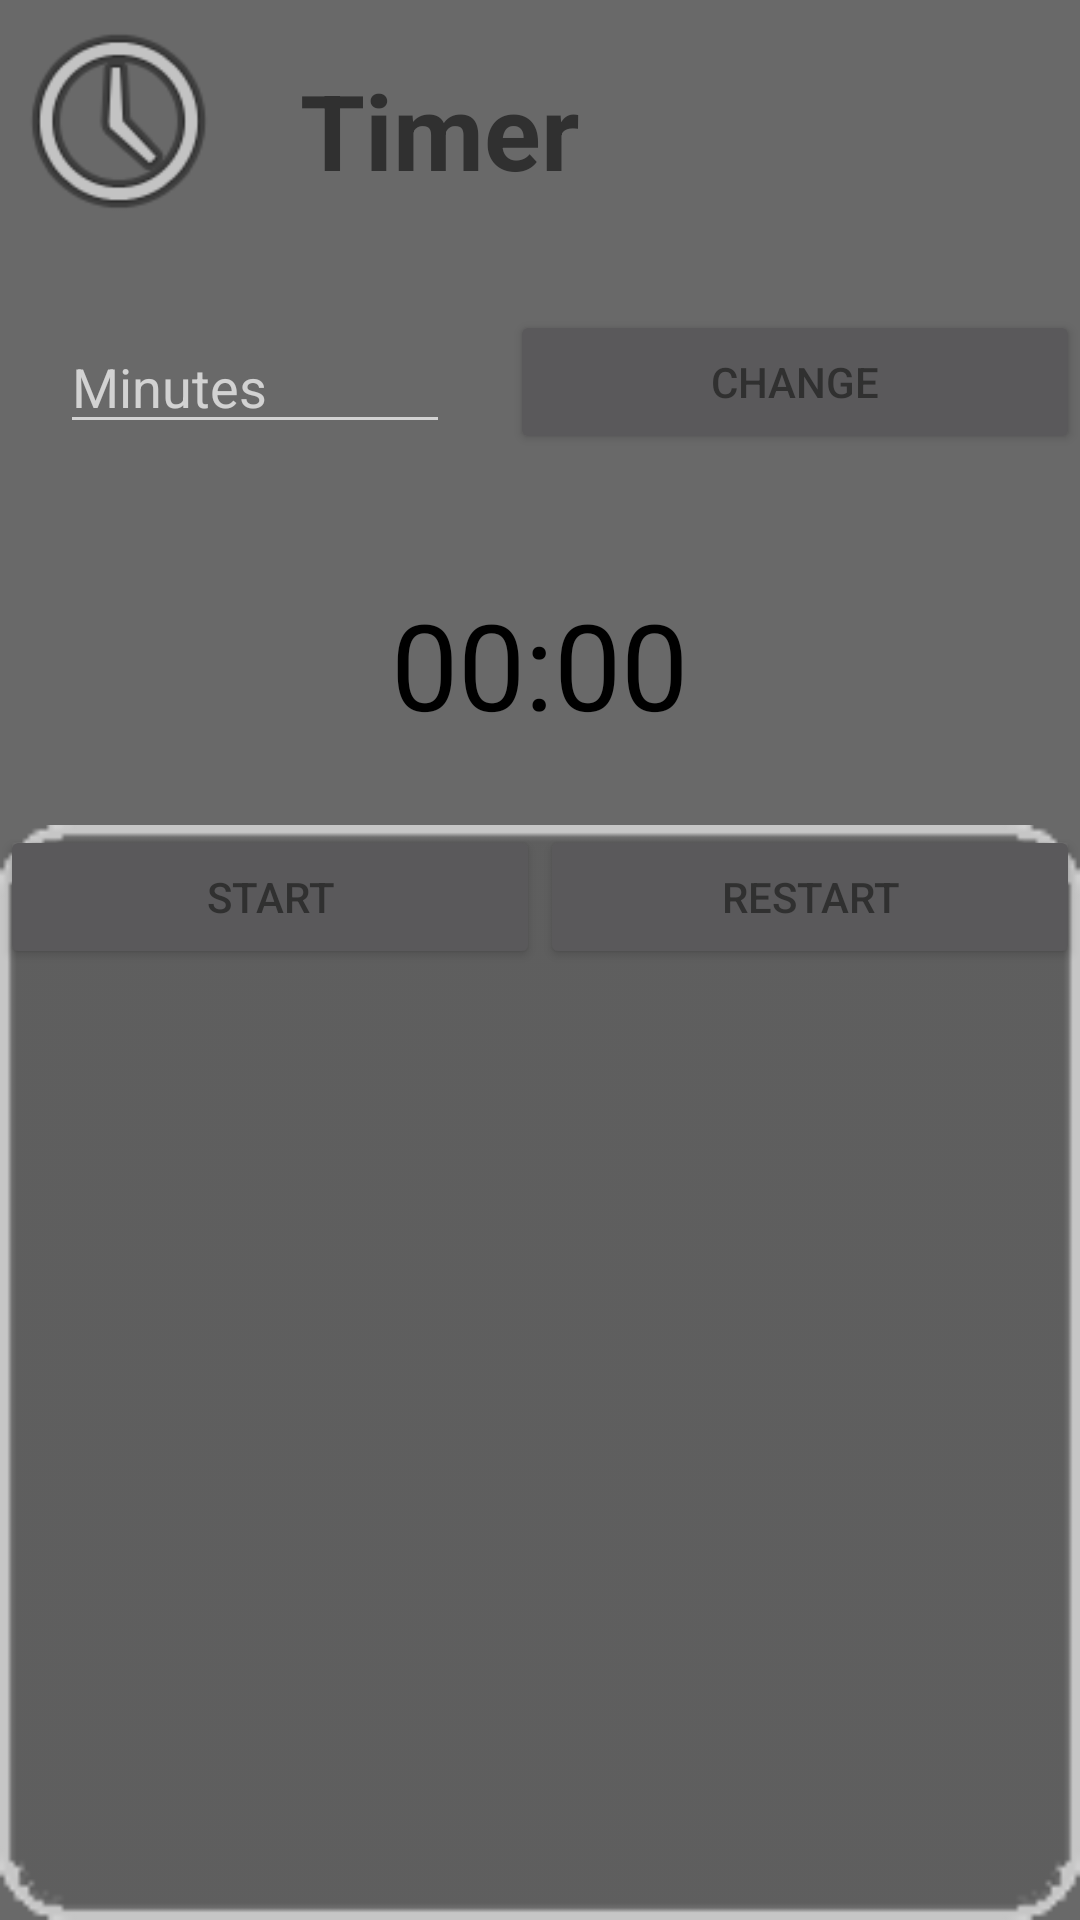

Icon click points for this 1080x1920 phone screenshot, format (x,y):
recent history: (119,121)
